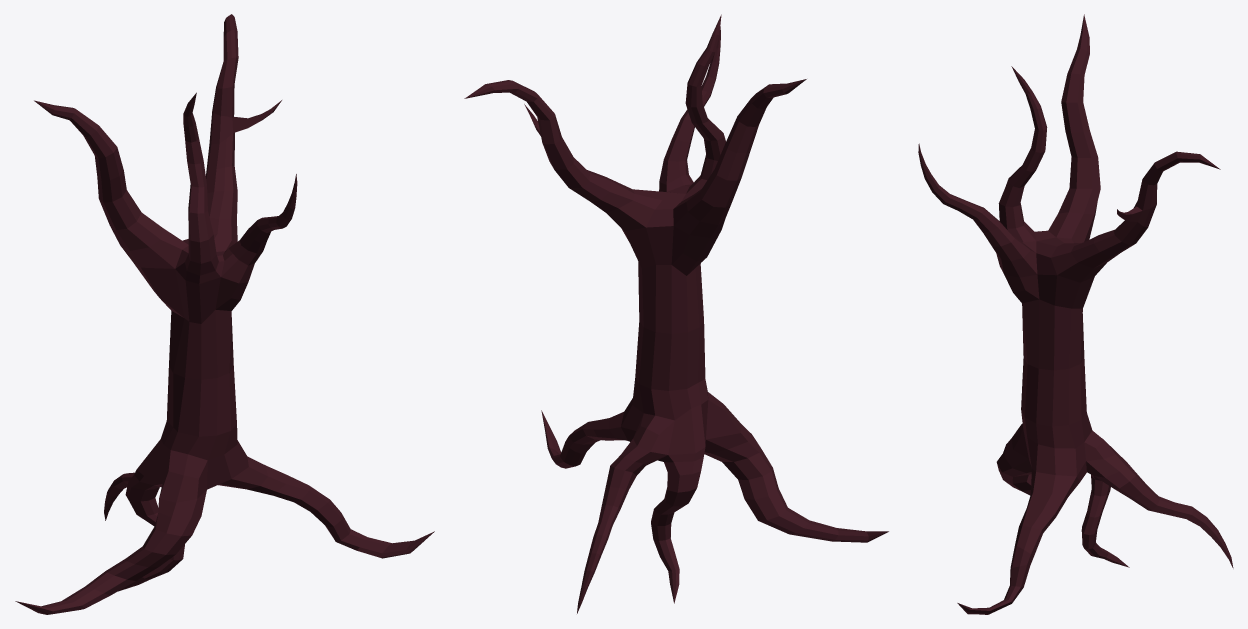
The model's file is tree-test.fbx.
3 views of the same model, side by side, from view 1: azimuth 30°, elevation 25°; view 2: azimuth 150°, elevation 25°; view 3: azimuth 270°, elevation 25° (orthographic). The views are drawn at different scales.
Visible parts, largest first — view 1: Cylinder001; view 2: Cylinder001; view 3: Cylinder001.
Boxes of the visible parts, x1=… form: Cylinder001: x1=15, y1=14, x2=434, y2=614; Cylinder001: x1=464, y1=14, x2=888, y2=613; Cylinder001: x1=918, y1=14, x2=1233, y2=614.
Bounding box in the file's own units: 728 × 978 × 548.
